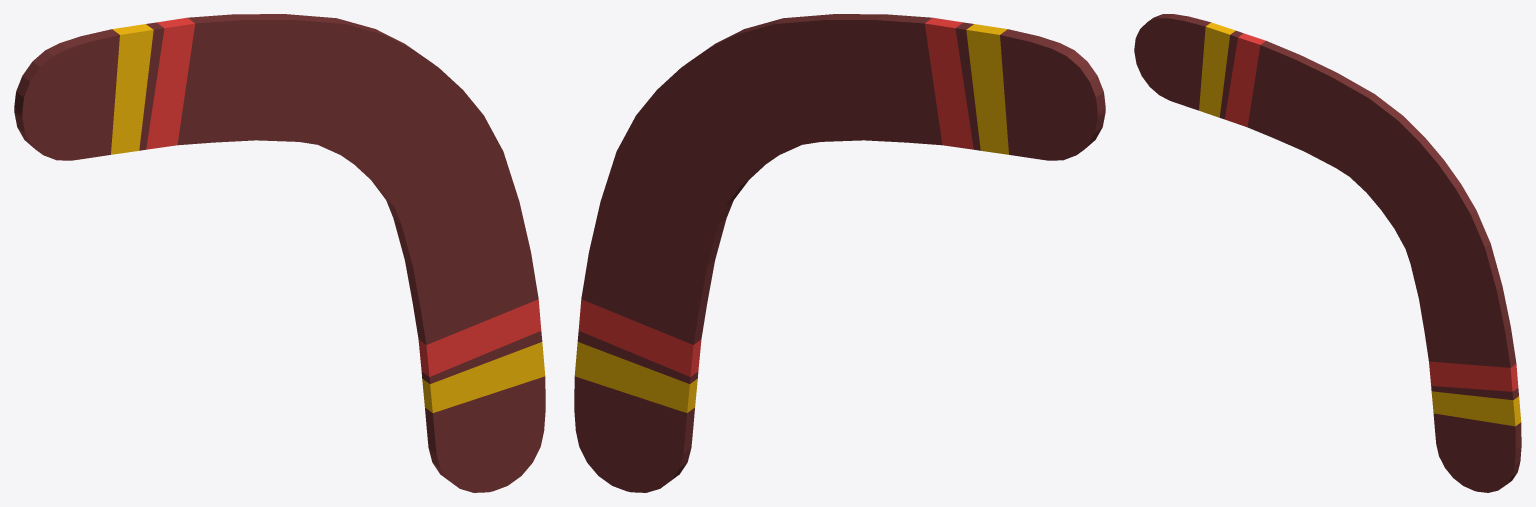
File: boomerang.glb
3 renders of one model, left to right at view 1: azimuth 30°, elevation 25°; view 2: azimuth 150°, elevation 25°; view 3: azimuth 330°, elevation 25°, orthographic. The views are drawn at different scales.
Parts seen in each view (by area): view 1: Cube.997; view 2: Cube.997; view 3: Cube.997.
Part boxes in pixels (x1=…): Cube.997: x1=14, y1=14, x2=545, y2=492; Cube.997: x1=574, y1=14, x2=1105, y2=492; Cube.997: x1=1134, y1=14, x2=1521, y2=492.
Bounding box in the file's own units: 2.01 × 2.01 × 0.0531.
Materials: 1 (1 with a texture image).
